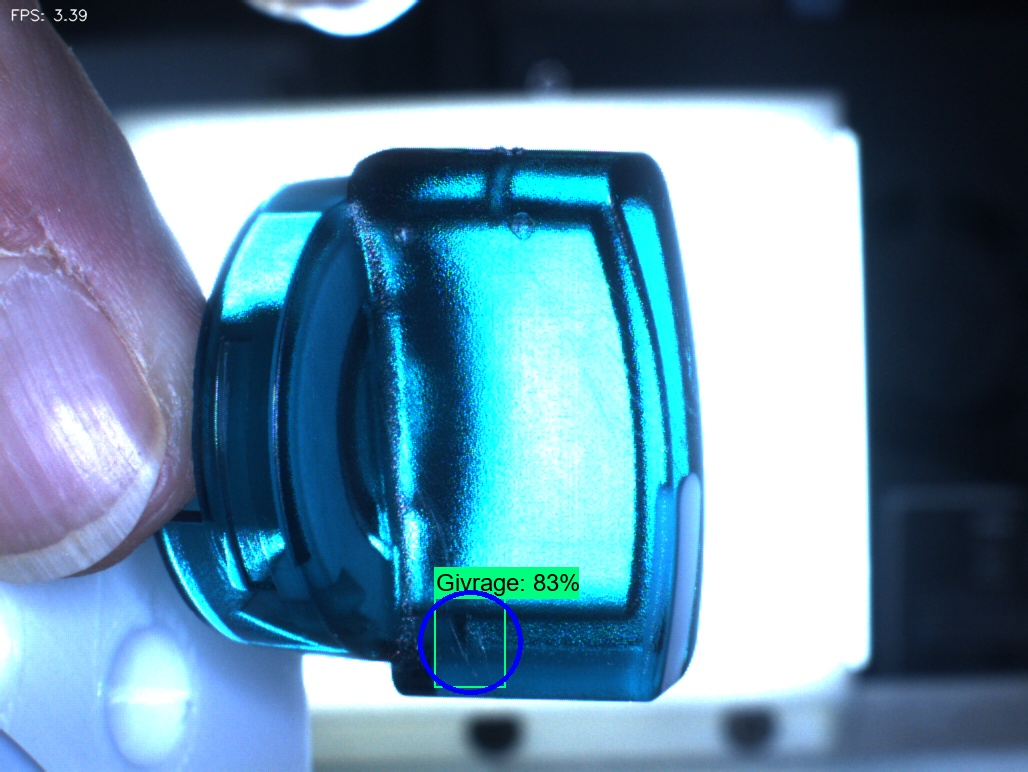Bulle: (468, 179, 583, 272)
